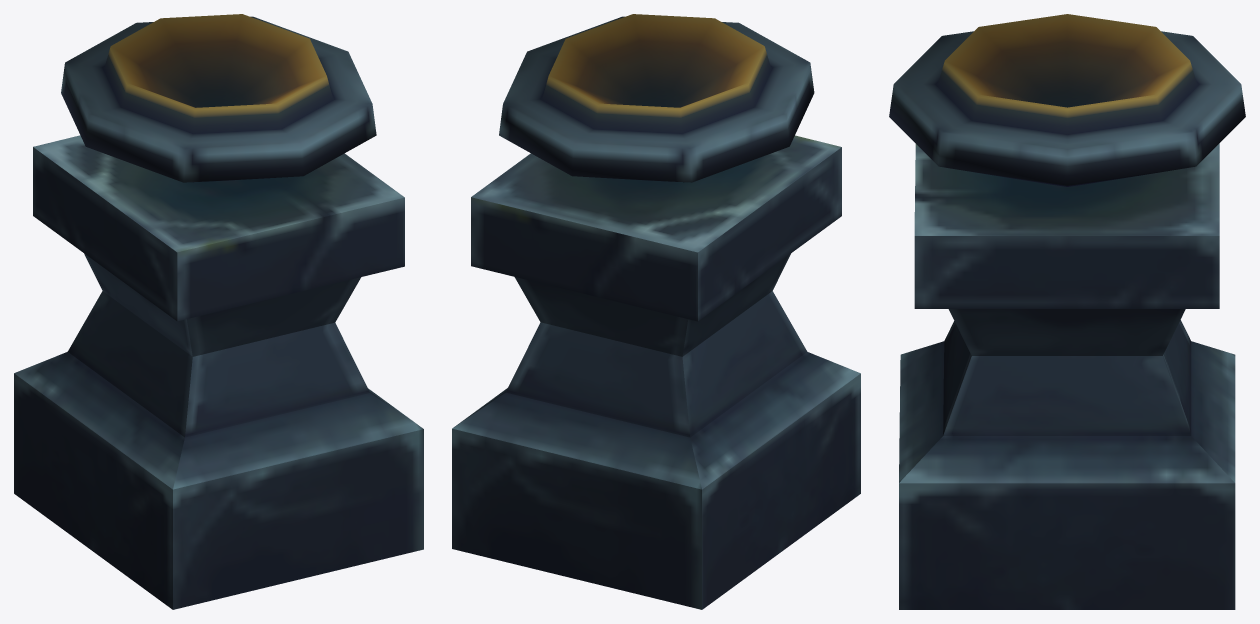
File: H_Maze_huopen01.FBX
The picture shows the model from 3 angles, left to right: view 1: azimuth 30°, elevation 25°; view 2: azimuth 150°, elevation 25°; view 3: azimuth 270°, elevation 25°; orthographic projection. The views are drawn at different scales.
Parts seen in each view (by area): view 1: huopen01; view 2: huopen01; view 3: huopen01.
Part boxes in pixels (x1=…): huopen01: x1=14, y1=14, x2=423, y2=609; huopen01: x1=452, y1=14, x2=860, y2=609; huopen01: x1=889, y1=14, x2=1245, y2=609.
Size of the model in its own units: 39.22 by 64.84 by 43.24.
